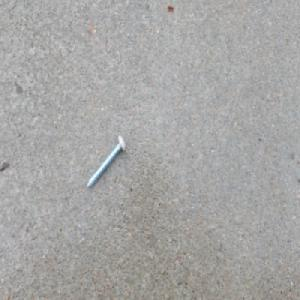Nail: (85, 133, 126, 191)
